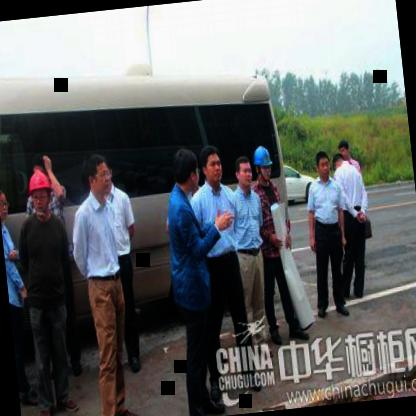head: (168, 142, 206, 198), (83, 152, 113, 198), (198, 142, 228, 186), (232, 153, 253, 189), (312, 146, 331, 180), (327, 150, 347, 180), (0, 183, 11, 223), (336, 134, 352, 160)
helmet: (24, 163, 60, 219), (252, 142, 274, 186)
